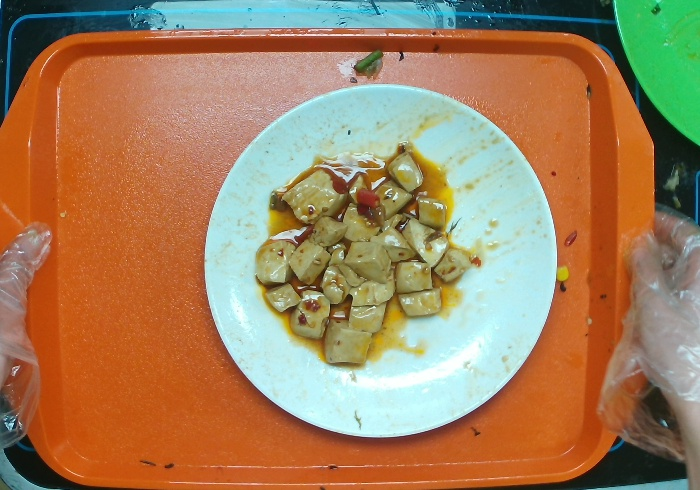HZYJPL-Bai_Se_Yuan_Pan: (200, 88, 568, 435)
